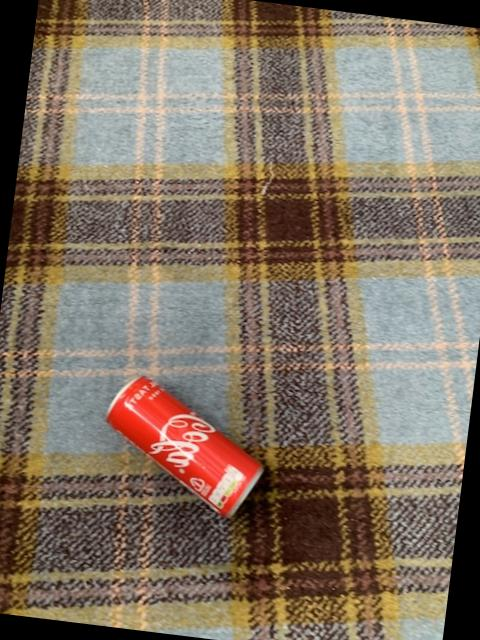metal: (105, 377, 261, 516)
